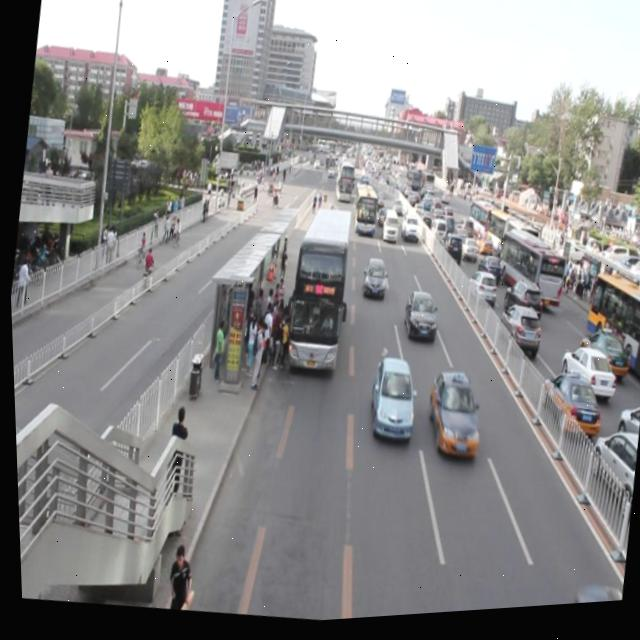car: (418, 370, 485, 469), (360, 359, 418, 450), (399, 293, 436, 347), (358, 258, 385, 302), (395, 218, 417, 246), (375, 213, 388, 231), (372, 195, 384, 214), (389, 202, 401, 219), (357, 176, 369, 191)
truck: (378, 212, 398, 248)
van: (278, 206, 354, 384), (347, 184, 378, 240), (332, 164, 355, 206)
